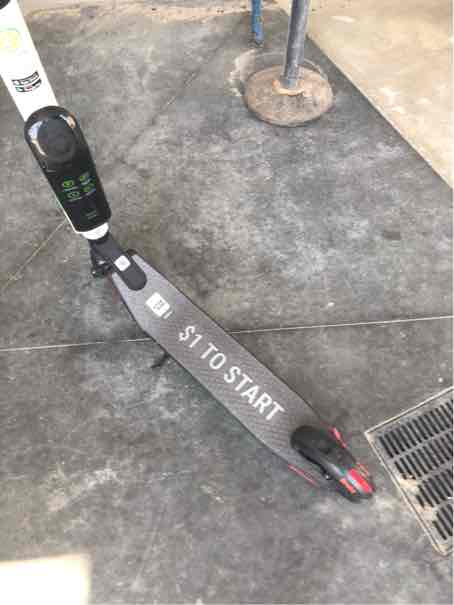scooter: (2, 1, 382, 506)
